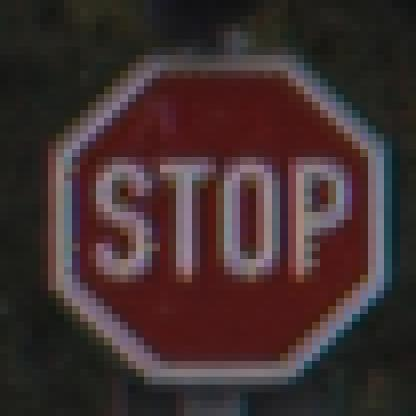Stop: (54, 54, 385, 384)
